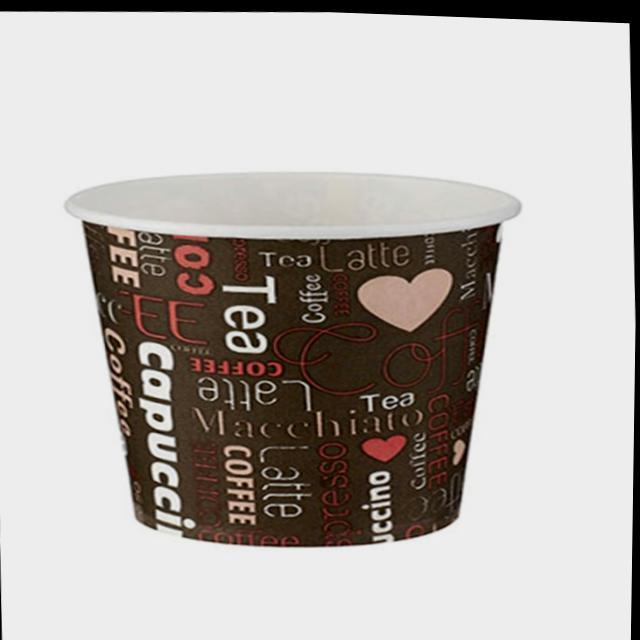cup: (41, 153, 556, 564)
